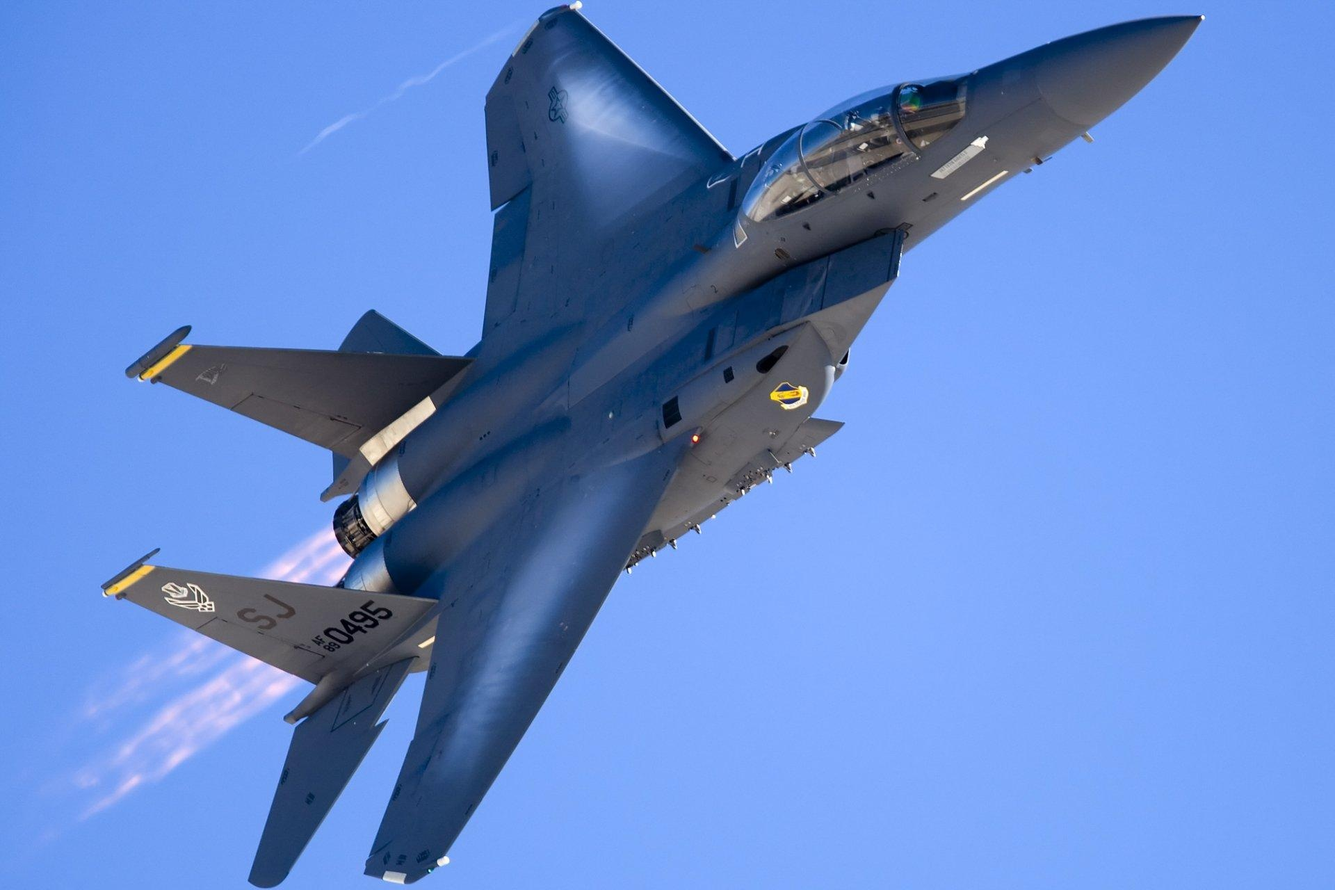aircraft: (104, 3, 1242, 862)
